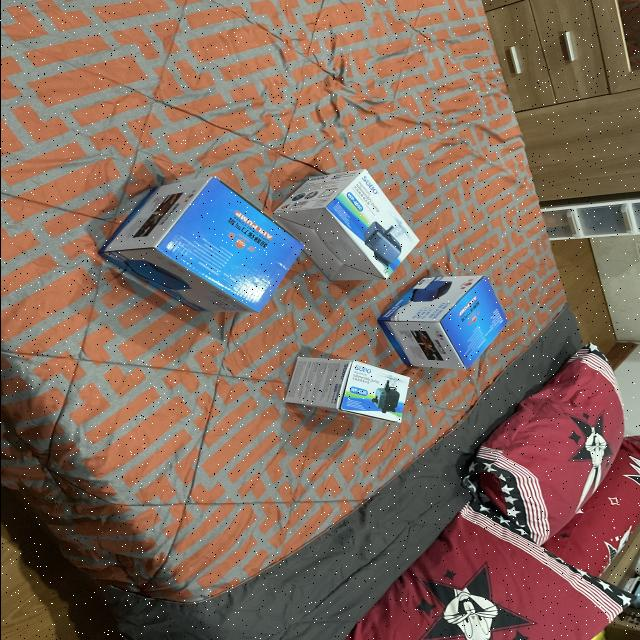SOBO_WP_4200: (283, 160, 427, 284), (264, 349, 411, 434)
YAMANO_LPP_20: (79, 165, 300, 332), (376, 262, 514, 369)
